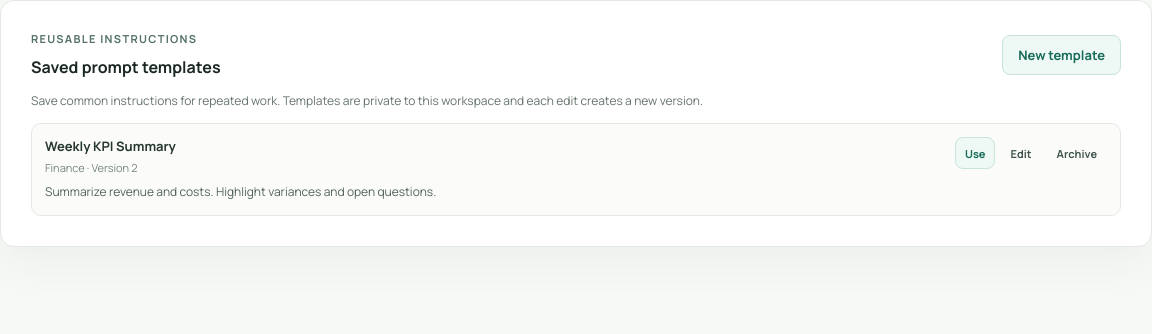
it: PromptTemplatesPanel › loads the current immutable version and copies it into the request composer
The width and height of the screenshot is (1152, 334).
Expected: the text "Weekly KPI Summary" is shown, [45,137,176,155]
Expected: the text "Finance · Version 2" is shown, [45,160,138,175]
Click the button "Use" at (975, 153), box [955,137,996,169]
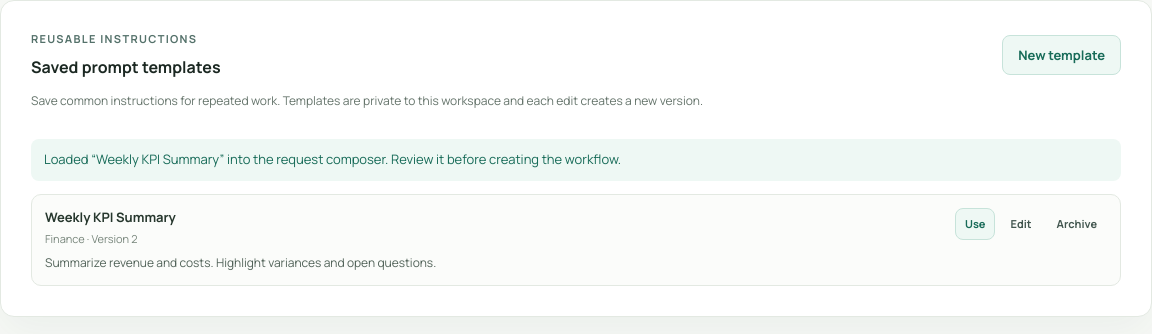
Result: the message shows "Loaded" at [44,150,621,168]
